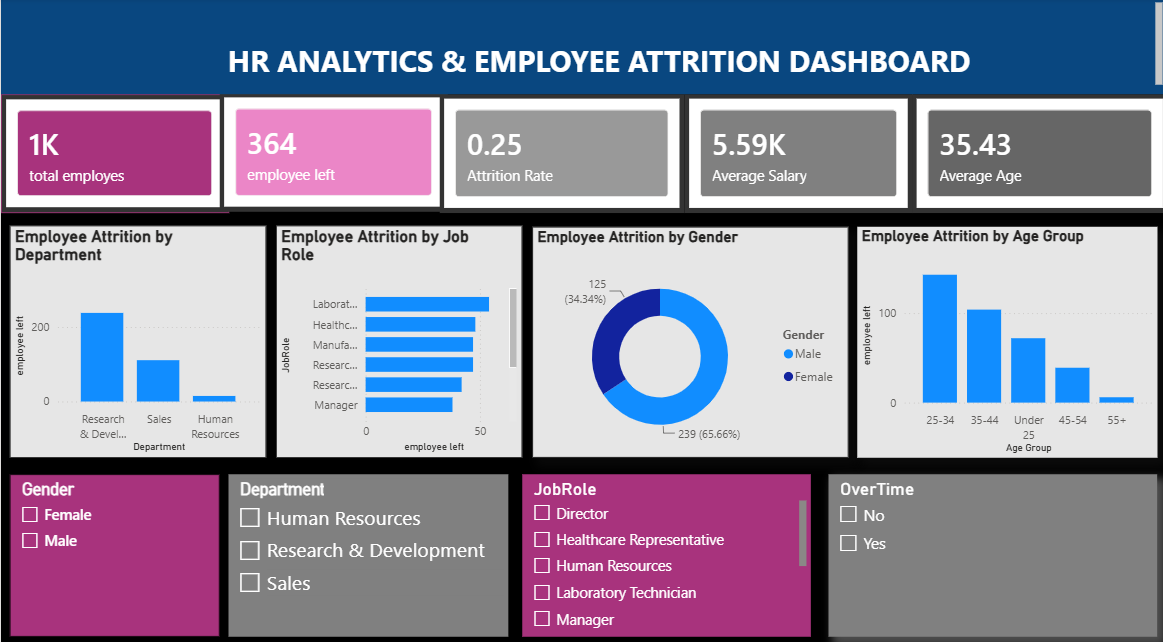

This screenshot's page, from the dashboard's own definition file:
{"tool":"powerbi","page":{"name":"Page 1","canvas":[1280,720],"ordinal":0},"visuals":[{"type":"cardVisual","fields":{"Data":["HR Data.total employes"]},"box":[0,105.7,250,130],"z":0},{"type":"cardVisual","fields":{"Data":["HR Data.employee left"]},"box":[240.1,104.3,250,130],"z":1000},{"type":"cardVisual","fields":{"Data":["HR Data.Average Salary"]},"box":[750.6,105.7,250,130],"z":2000},{"type":"cardVisual","fields":{"Data":["HR Data.Attrition Rate"]},"box":[481.6,105.7,269,130.4],"z":3000},{"type":"cardVisual","fields":{"Data":["HR Data.Average Age"]},"box":[1000.3,105.7,280,130],"z":4000},{"type":"clusteredColumnChart","title":"Employee Attrition by Department","fields":{"Category":["HR Data.Department"],"Y":["HR Data.employee left"]},"box":[9.6,249.7,281.3,255.2],"z":5000},{"type":"clusteredBarChart","title":"Employee Attrition by Job Role","fields":{"Category":["HR Data.JobRole"],"Y":["HR Data.employee left"]},"box":[301.9,249.7,270.3,255.2],"z":6000},{"type":"donutChart","title":"Employee Attrition by Gender","fields":{"Category":["HR Data.Gender"],"Y":["HR Data.employee left"]},"box":[583.2,251.1,347.2,253.9],"z":7000},{"type":"clusteredColumnChart","title":"Employee Attrition by Age Group","fields":{"Category":["HR Data.Age Group"],"Y":["HR Data.employee left"]},"box":[940,251.1,329.3,253.9],"z":8000},{"type":"slicer","fields":{"Values":["HR Data.Department"]},"box":[249.7,522.8,307.4,178.4],"z":9000},{"type":"slicer","fields":{"Values":["HR Data.Gender"]},"box":[9.6,522.8,230.5,178.4],"z":10000},{"type":"slicer","fields":{"Values":["HR Data.OverTime"]},"box":[908.4,522.8,360.9,178.4],"z":11000},{"type":"slicer","fields":{"Values":["HR Data.JobRole"]},"box":[572.2,522.8,317,178.4],"z":12000},{"type":"textbox","box":[0,0,1280.3,105.7],"z":13000}]}

Visuals, with their boxes in screenshot pixels (x1, y1, x2, y2), scaled from the page's 1280x720 canvas onto the 1163x642 screenshot:
cardVisual - HR Data.total employes: <box>0,94,227,210</box>
cardVisual - HR Data.employee left: <box>218,93,445,209</box>
cardVisual - HR Data.Average Salary: <box>682,94,909,210</box>
cardVisual - HR Data.Attrition Rate: <box>438,94,682,211</box>
cardVisual - HR Data.Average Age: <box>909,94,1162,210</box>
"Employee Attrition by Department" clusteredColumnChart: <box>9,223,264,450</box>
"Employee Attrition by Job Role" clusteredBarChart: <box>274,223,520,450</box>
"Employee Attrition by Gender" donutChart: <box>530,224,845,450</box>
"Employee Attrition by Age Group" clusteredColumnChart: <box>854,224,1153,450</box>
slicer - HR Data.Department: <box>227,466,506,625</box>
slicer - HR Data.Gender: <box>9,466,218,625</box>
slicer - HR Data.OverTime: <box>825,466,1153,625</box>
slicer - HR Data.JobRole: <box>520,466,808,625</box>
textbox: <box>0,0,1162,94</box>
